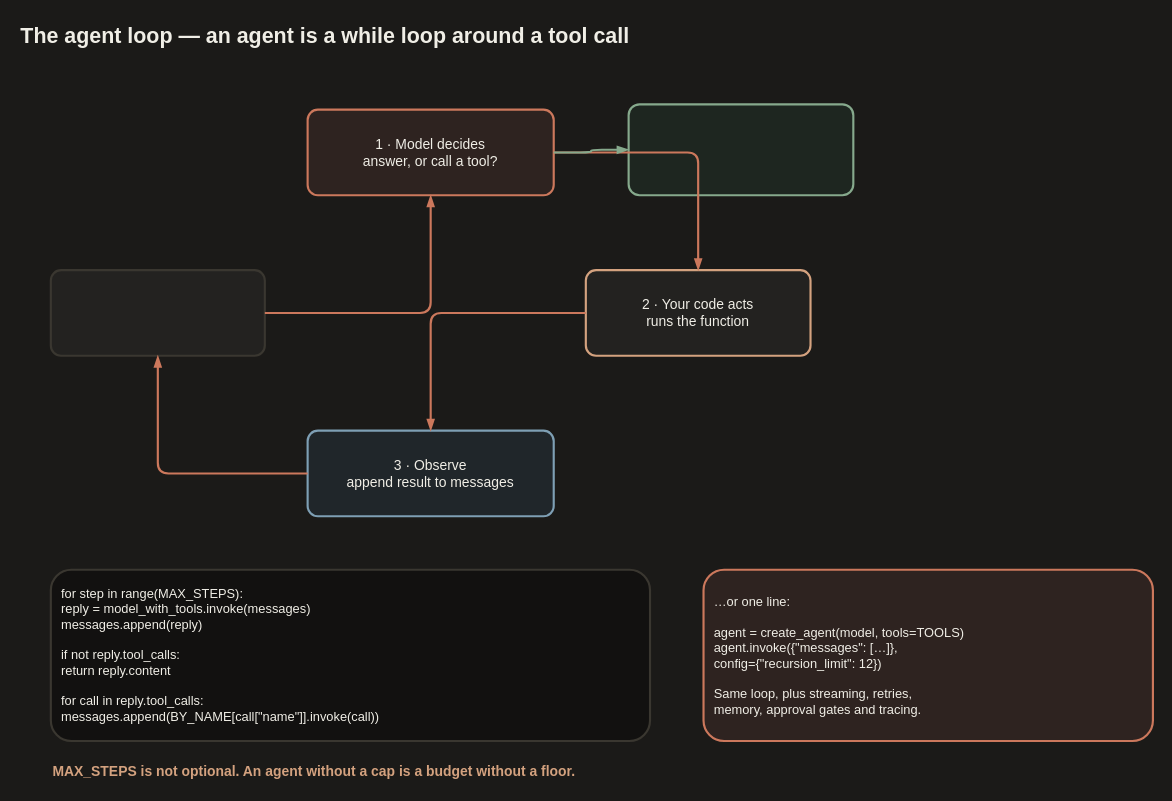
This 1172x801 diagram has some shape labels left out. The box of each missing label's shape, as (x1, y1, x2, y2) in pixels:
4 · Repeat call the model again: (49, 269, 265, 356)
Exit when it answers instead of calling a tool: (627, 103, 854, 196)
